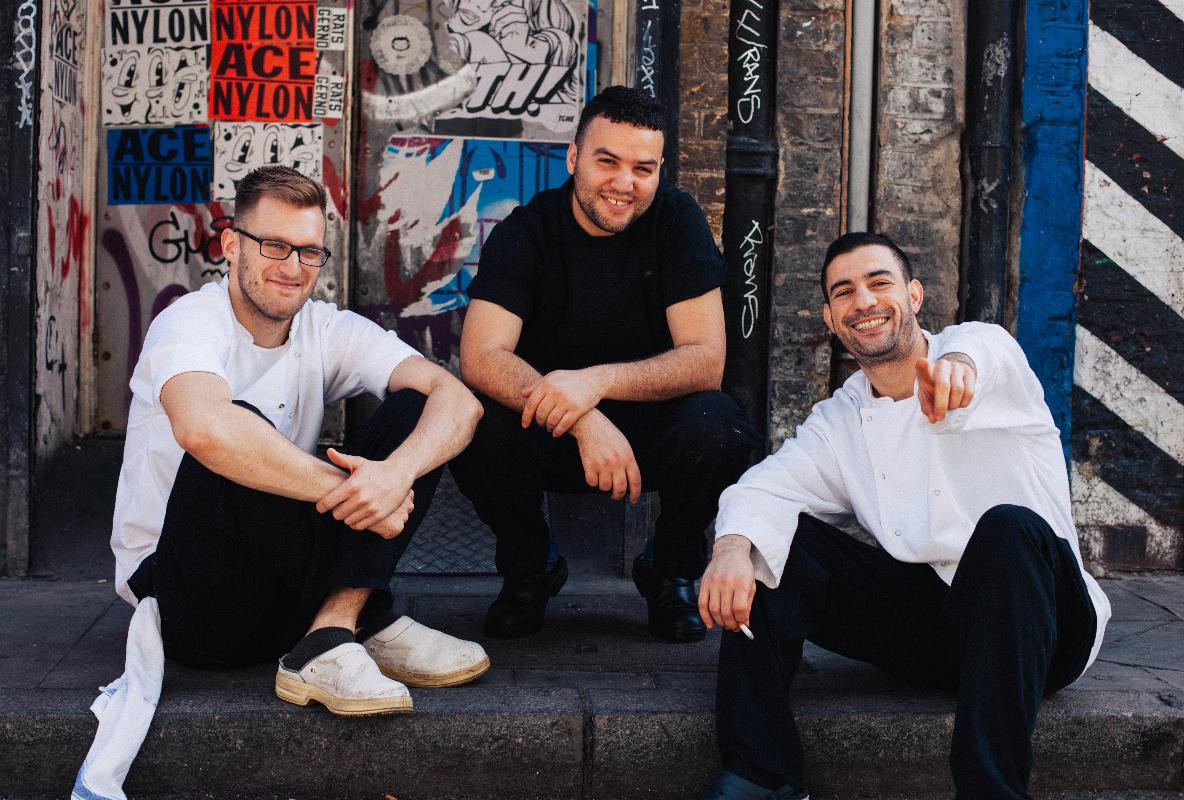Person: (700, 231, 1110, 800), (108, 165, 489, 714), (464, 82, 740, 635)
